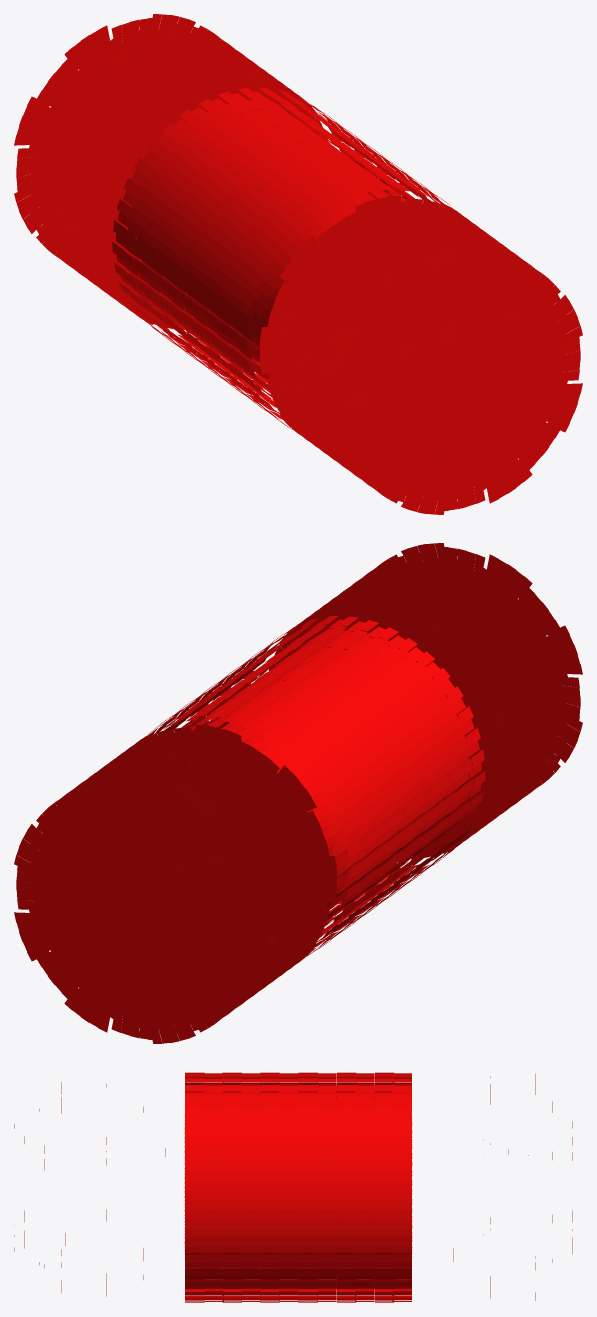
File: checkGeo.obj
3 renders of one model, top to bottom at view 1: azimuth 30°, elevation 25°; view 2: azimuth 150°, elevation 25°; view 3: azimuth 270°, elevation 25°, orthographic. The views are drawn at different scales.
Size of the model in its own units: 2200 by 2200 by 5436.
